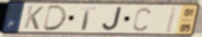C: (132, 6, 152, 32)
D: (41, 5, 69, 32)
I: (163, 6, 179, 34)
J: (101, 6, 124, 32)
K: (22, 5, 46, 31)
T: (79, 6, 97, 31)
